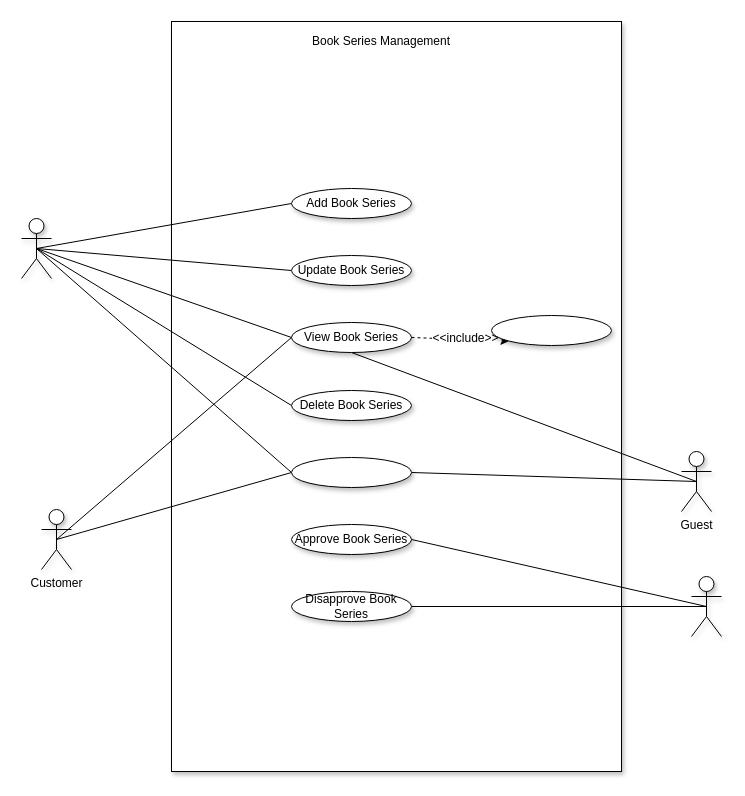
Some shapes in this 745 by 796 pixel diagram are drawn without their labels. Here are the shapes that lost their labels. From the top down, the centre of each, then its label:
(x=37, y=250): Staff
(x=552, y=331): Book
(x=352, y=473): Search Book Series
(x=707, y=608): Admin
